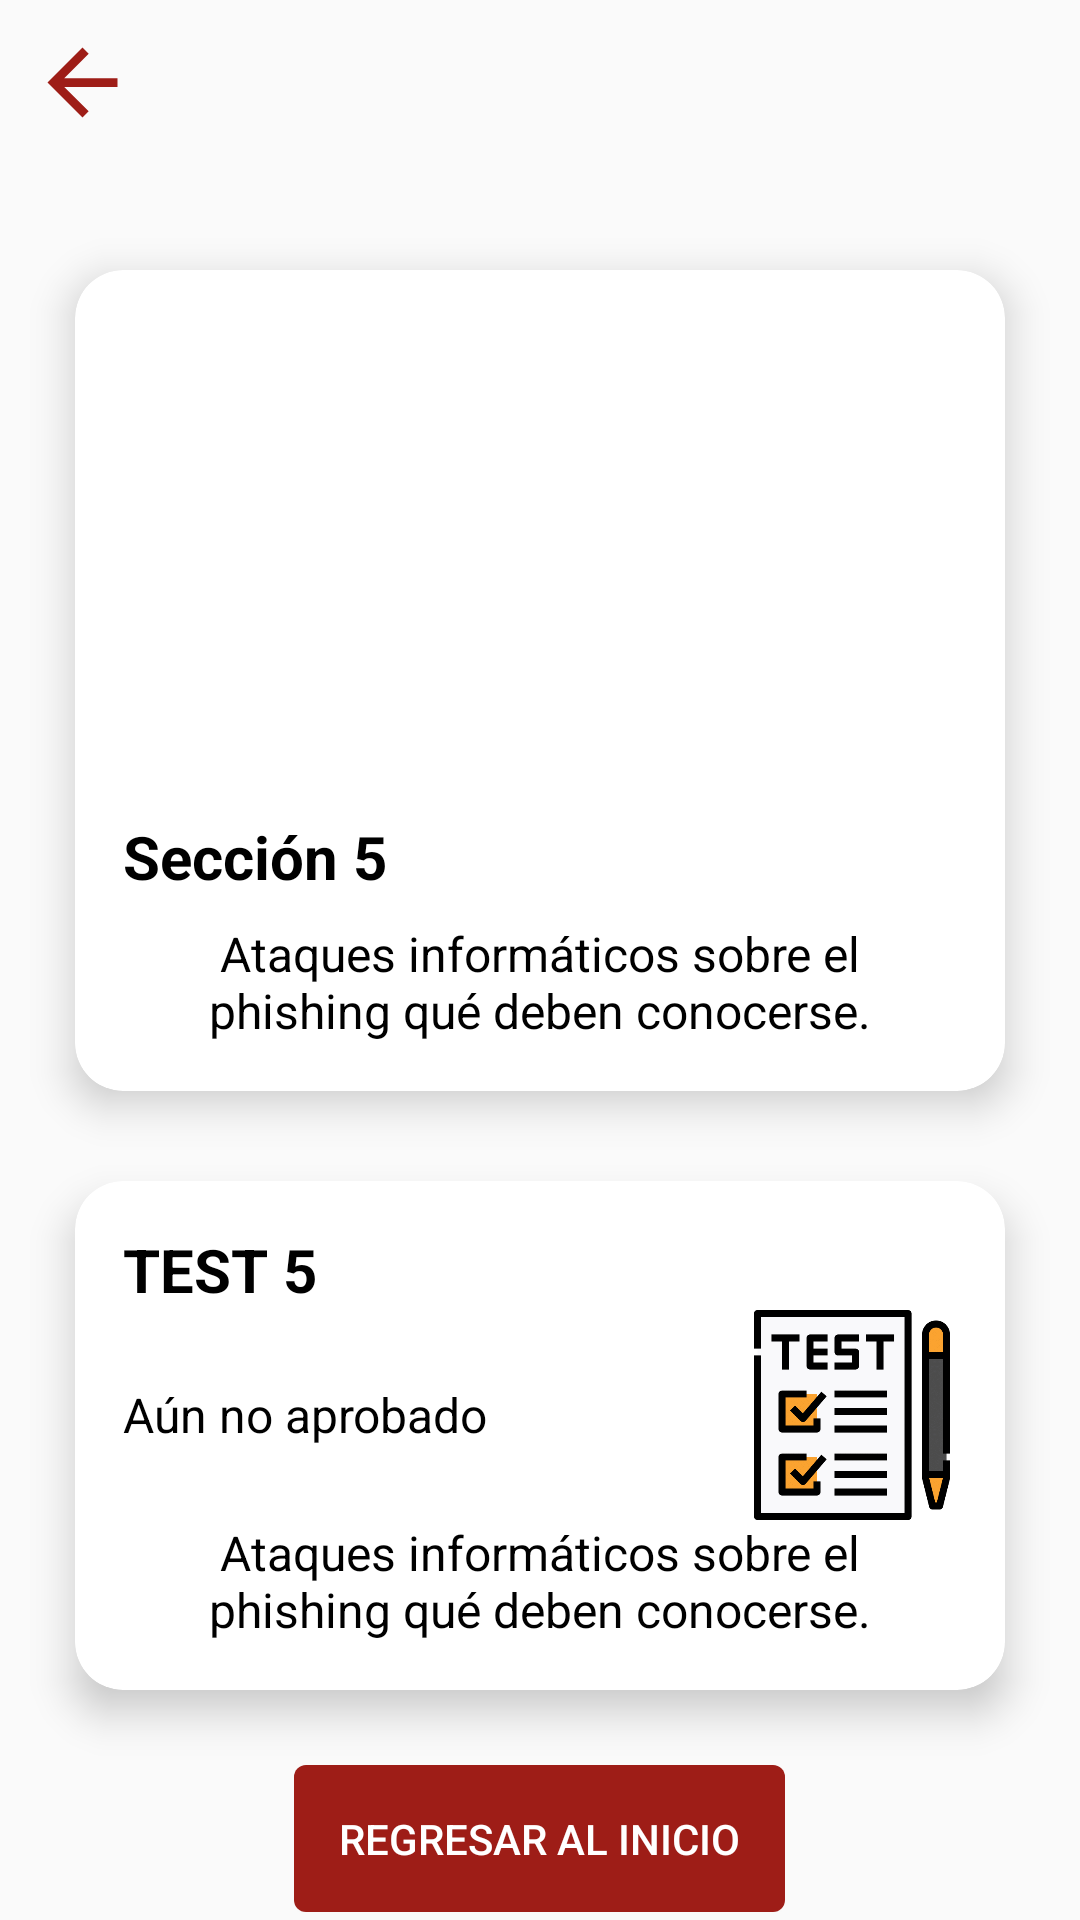

Where icons sit on this 1080px×1920px app screen, as (x1, y1, x2, y2):
back arrow: (47, 47, 118, 118)
